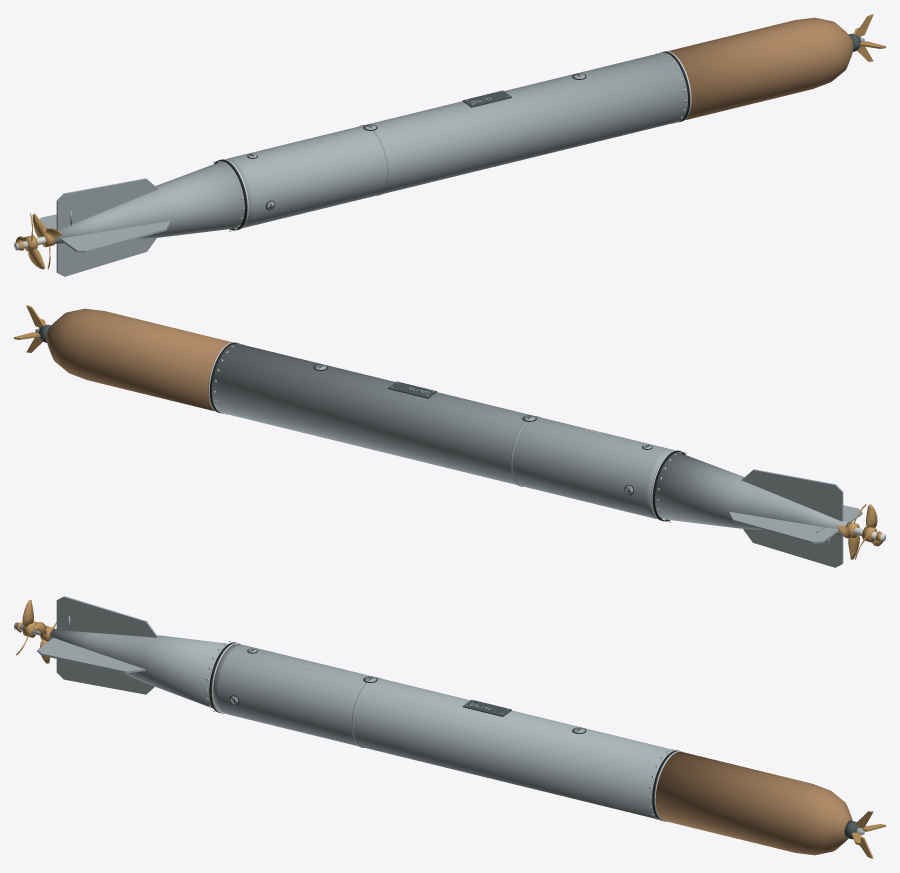
3 views of the same model, one above another, from view 1: azimuth 30°, elevation 25°; view 2: azimuth 150°, elevation 25°; view 3: azimuth 330°, elevation 25° (orthographic).
Visible parts, largest first — view 1: Body_Sections.012_Torpedo_Satin_Steel.002, Body_Sections.012_Torpedo_Warm_Head.002, Tail_Assembly.012_Torpedo_Satin_Steel.002, Flush_Surface_Details.012_Torpedo_Recessed_Joints.002, Flush_Surface_Details.012_Torpedo_Blackened_Steel.002; view 2: Body_Sections.012_Torpedo_Satin_Steel.002, Body_Sections.012_Torpedo_Warm_Head.002, Tail_Assembly.012_Torpedo_Satin_Steel.002, Flush_Surface_Details.012_Torpedo_Recessed_Joints.002, Flush_Surface_Details.012_Torpedo_Blackened_Steel.002; view 3: Body_Sections.012_Torpedo_Satin_Steel.002, Body_Sections.012_Torpedo_Warm_Head.002, Tail_Assembly.012_Torpedo_Satin_Steel.002, Flush_Surface_Details.012_Torpedo_Blackened_Steel.002, Flush_Surface_Details.012_Torpedo_Recessed_Joints.002, Flush_Surface_Details.012_Torpedo_Machined_Edges.002.
Boxes of the visible parts, x1,y1,x2,y2 form: Body_Sections.012_Torpedo_Satin_Steel.002: (55,52,687,243); Body_Sections.012_Torpedo_Warm_Head.002: (668,17,853,120); Tail_Assembly.012_Torpedo_Satin_Steel.002: (39,178,170,276); Flush_Surface_Details.012_Torpedo_Recessed_Joints.002: (214,51,689,231); Flush_Surface_Details.012_Torpedo_Blackened_Steel.002: (462,33,861,107); Body_Sections.012_Torpedo_Satin_Steel.002: (212,343,847,534); Body_Sections.012_Torpedo_Warm_Head.002: (46,308,231,411); Tail_Assembly.012_Torpedo_Satin_Steel.002: (729,469,862,567); Flush_Surface_Details.012_Torpedo_Recessed_Joints.002: (210,342,685,522); Flush_Surface_Details.012_Torpedo_Blackened_Steel.002: (38,324,437,398); Body_Sections.012_Torpedo_Satin_Steel.002: (49,629,675,819); Body_Sections.012_Torpedo_Warm_Head.002: (654,751,852,855); Tail_Assembly.012_Torpedo_Satin_Steel.002: (37,596,158,694); Flush_Surface_Details.012_Torpedo_Blackened_Steel.002: (462,699,861,839); Flush_Surface_Details.012_Torpedo_Recessed_Joints.002: (206,641,679,820); Flush_Surface_Details.012_Torpedo_Machined_Edges.002: (205,641,683,821).
Size of the model in its own units: 4.25 by 0.3917 by 0.3917.
